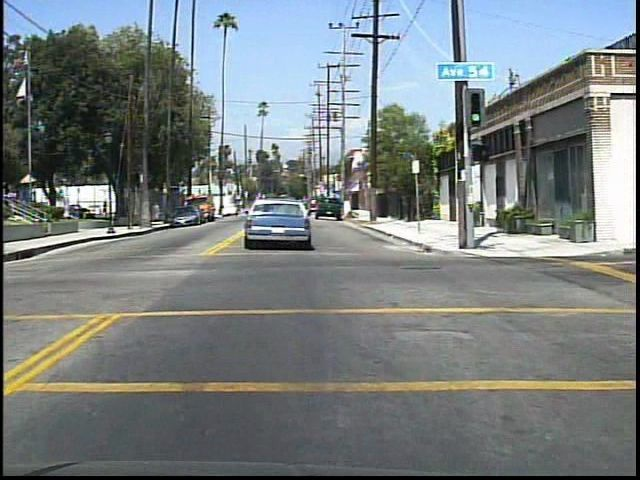person: (151, 200, 163, 225), (120, 196, 133, 219), (101, 198, 110, 220)
